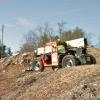Tractor: (21, 26, 88, 79)
